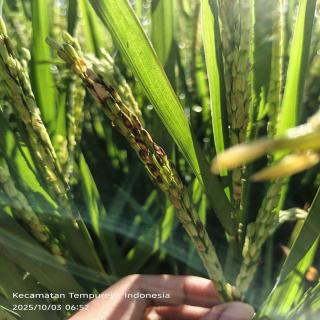Busuk-Bulir: (87, 88, 106, 105), (93, 84, 110, 102), (110, 85, 124, 104), (138, 149, 154, 165), (86, 68, 101, 84), (121, 114, 134, 131), (146, 163, 160, 178), (142, 129, 153, 147), (132, 114, 142, 130)
